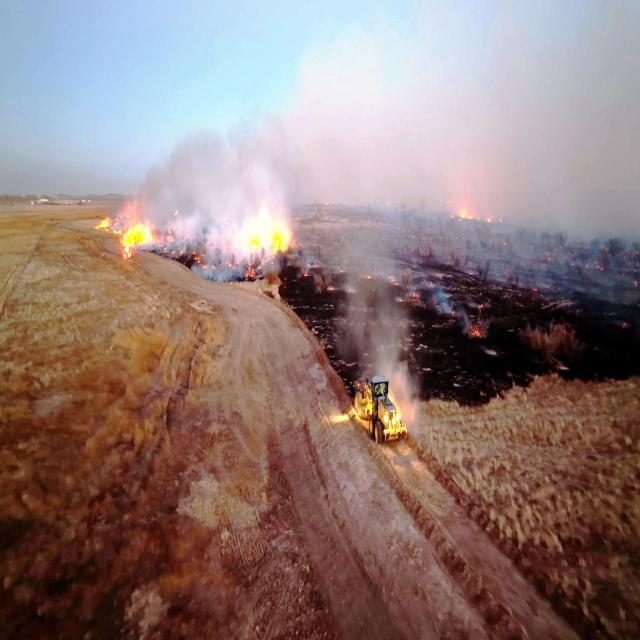Smoke: (309, 0, 640, 199), (165, 105, 314, 198)
